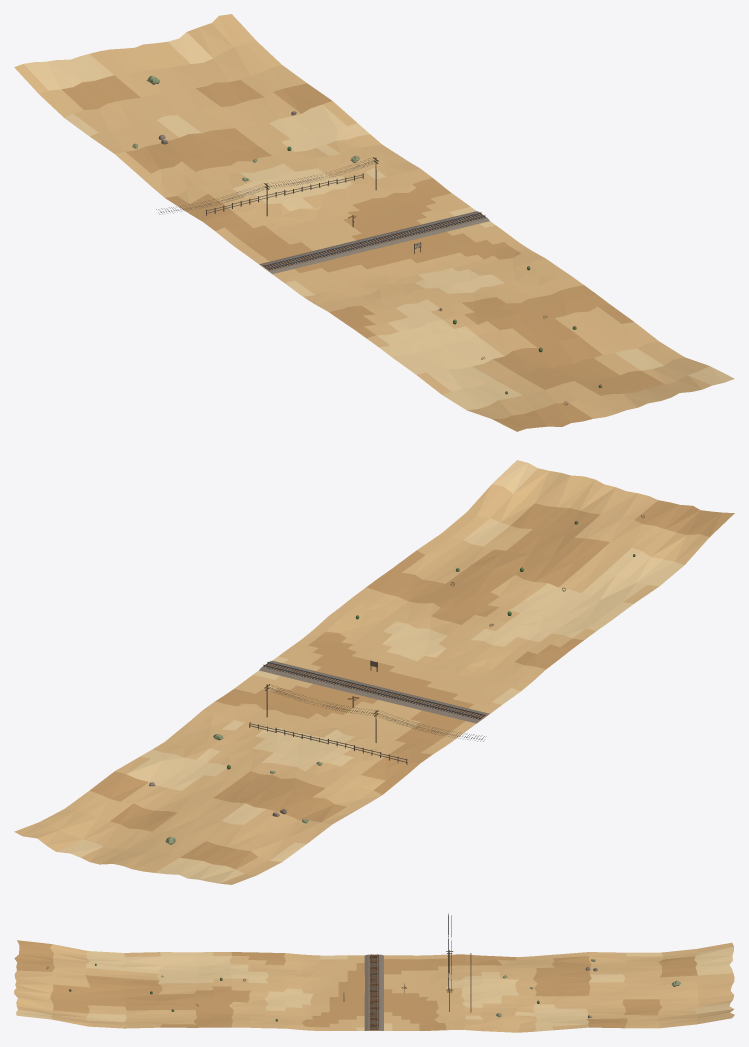
File: chunk_fence.glb
3 views of the same model, one above another, from view 1: azimuth 30°, elevation 25°; view 2: azimuth 150°, elevation 25°; view 3: azimuth 270°, elevation 25° (orthographic). The views are drawn at different scales.
Parts seen in each view (by area): view 1: FG_Chunk_Telegraph_Fence_A_Track; view 2: FG_Chunk_Telegraph_Fence_A_Track; view 3: FG_Chunk_Telegraph_Fence_A_Track.
Part boxes in pixels (x1,y1,x2,y2): FG_Chunk_Telegraph_Fence_A_Track: (14,14,734,431); FG_Chunk_Telegraph_Fence_A_Track: (14,460,734,884); FG_Chunk_Telegraph_Fence_A_Track: (14,913,734,1032).
Size of the model in its own units: 62.5 by 8.02 by 202.
